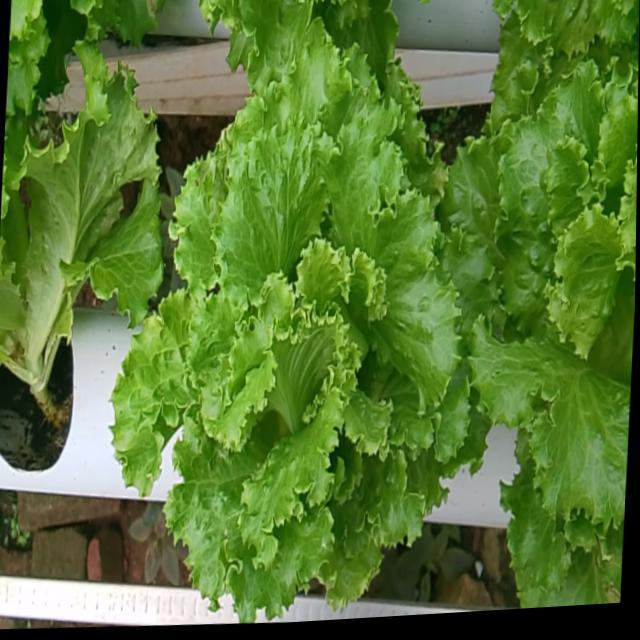Mature: (121, 57, 477, 623), (450, 72, 638, 544)
